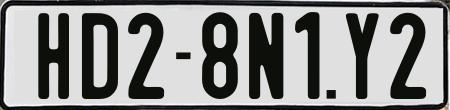1: (293, 12, 319, 99)
2: (388, 12, 429, 103), (127, 12, 169, 100)
8: (200, 12, 237, 104)
D: (80, 10, 122, 96)
H: (36, 11, 68, 102)
N: (247, 10, 281, 99)
Y: (346, 13, 382, 99)
